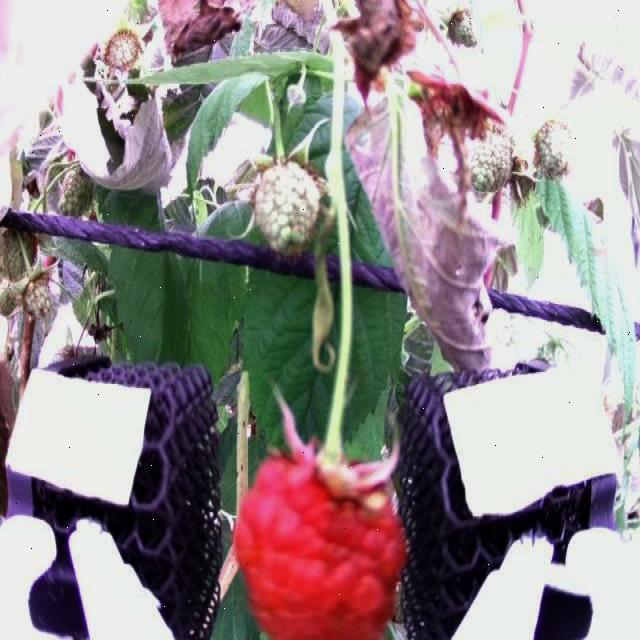Riped berries: (235, 442, 416, 640)
